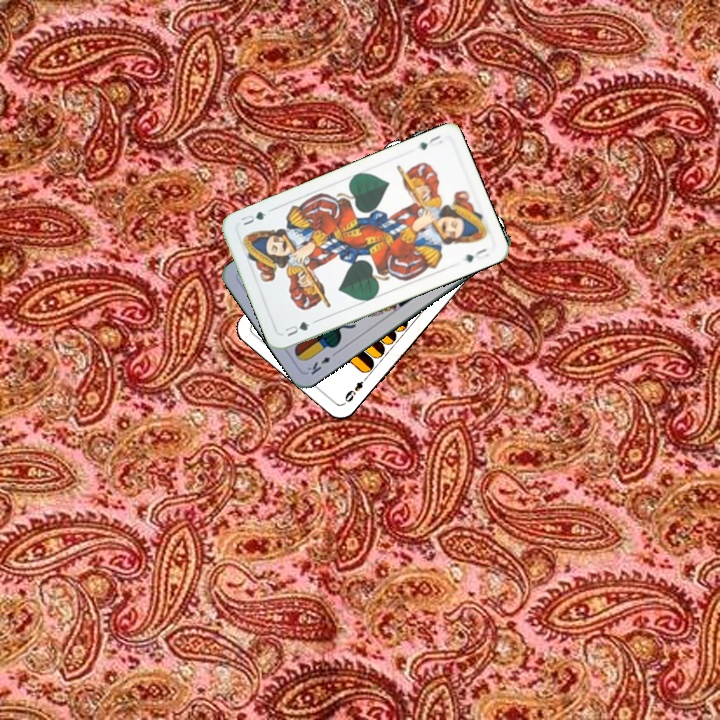E9: (340, 372, 370, 406)
EK: (303, 347, 340, 377)
GU: (280, 317, 313, 339), (415, 131, 445, 152)
